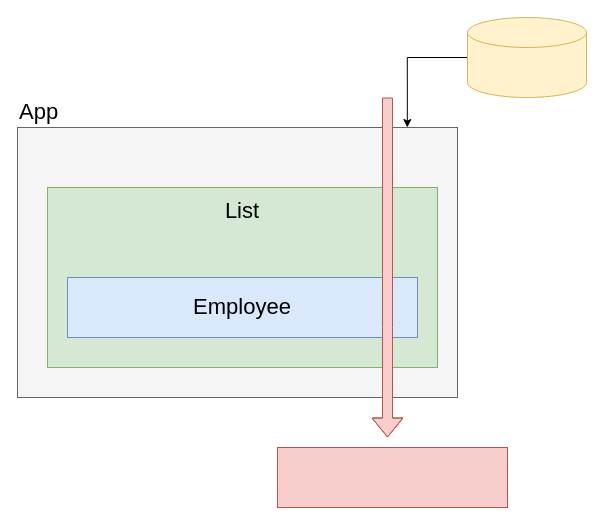
This 604x525 diagram has some shape labels left out. The box of each missing label's shape, as (x1, y1, x2, y2) in pixels:
component drilling: (276, 446, 508, 508)
data.js: (466, 16, 586, 98)
